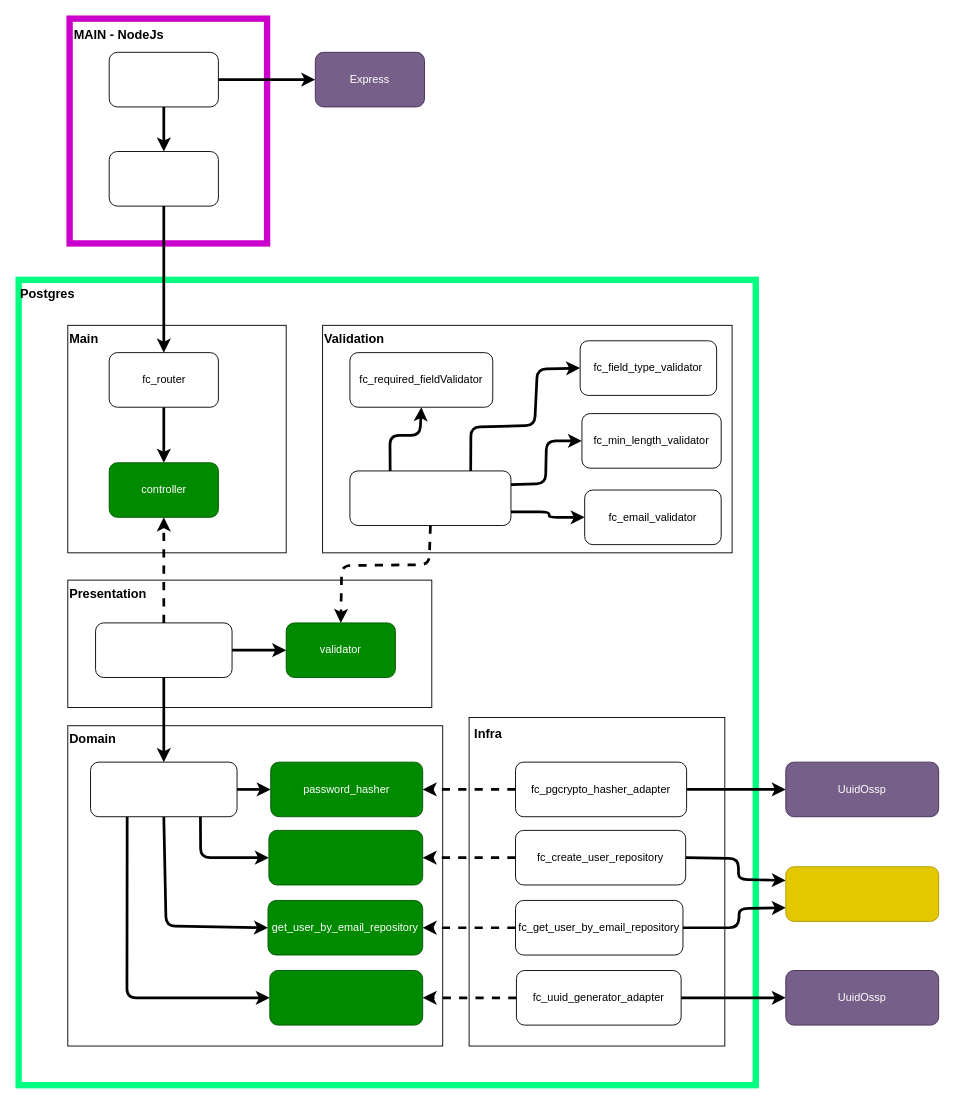
Some shapes in this 955 by 1104 pixel diagram are drawn without their labels. Each missing label, with the centre of its shape:
create_user_repository: [345,857]
fc_create_user_controller: [163,649]
fc_create_user_usecase: [163,789]
fc_create_user_validator: [430,498]
id_generator: [346,997]
routes: [163,178]
server: [163,79]
Table Users: [862,893]
